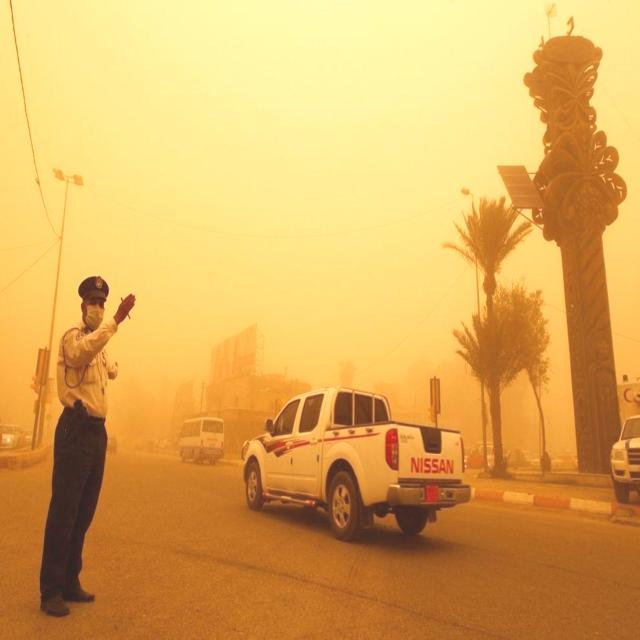Bus: (177, 416, 232, 471)
Car: (246, 383, 468, 544)
